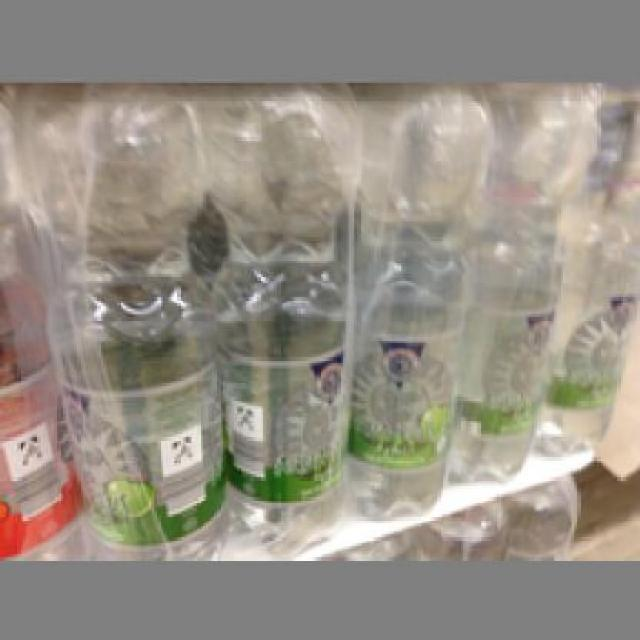Water: (10, 82, 226, 555), (197, 82, 360, 552), (442, 83, 592, 483), (346, 82, 483, 515)
